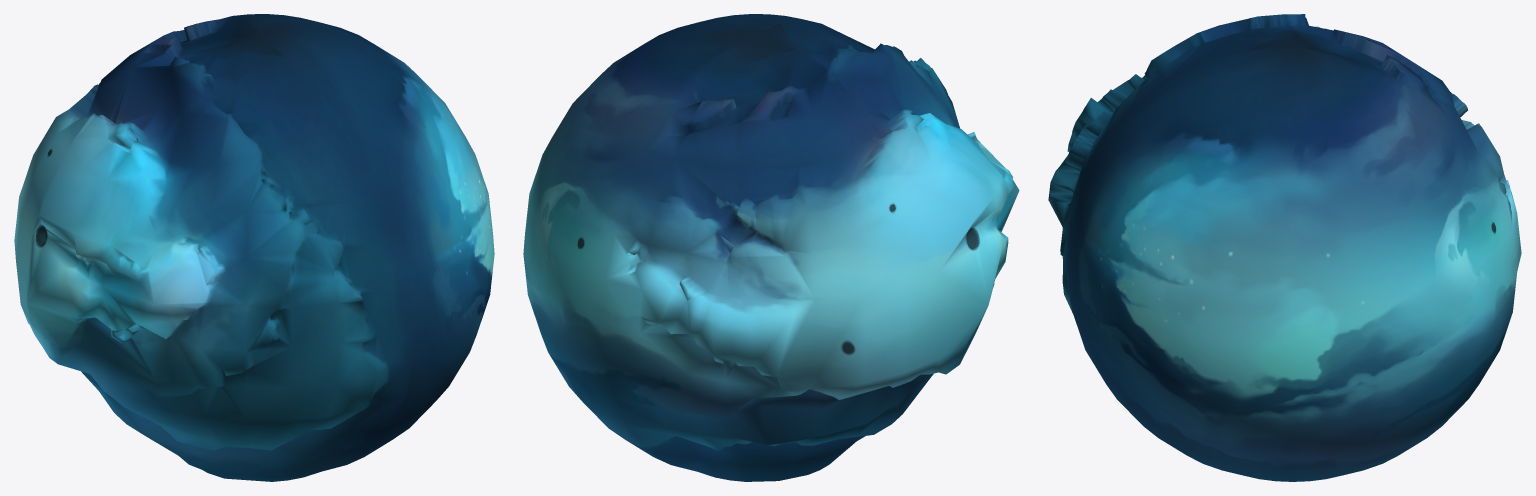
3 views of the same model, side by side, from view 1: azimuth 30°, elevation 25°; view 2: azimuth 150°, elevation 25°; view 3: azimuth 270°, elevation 25° (orthographic). The views are drawn at different scales.
Parts seen in each view (by area): view 1: Sky_Object001; view 2: Sky_Object001; view 3: Sky_Object001.
Boxes of the visible parts, x1=… form: Sky_Object001: x1=14, y1=14, x2=494, y2=481; Sky_Object001: x1=523, y1=14, x2=1019, y2=481; Sky_Object001: x1=1048, y1=14, x2=1521, y2=481.
Bounding box in the file's own units: 86.03 × 80.72 × 82.71.
1 material, 1 textured.
